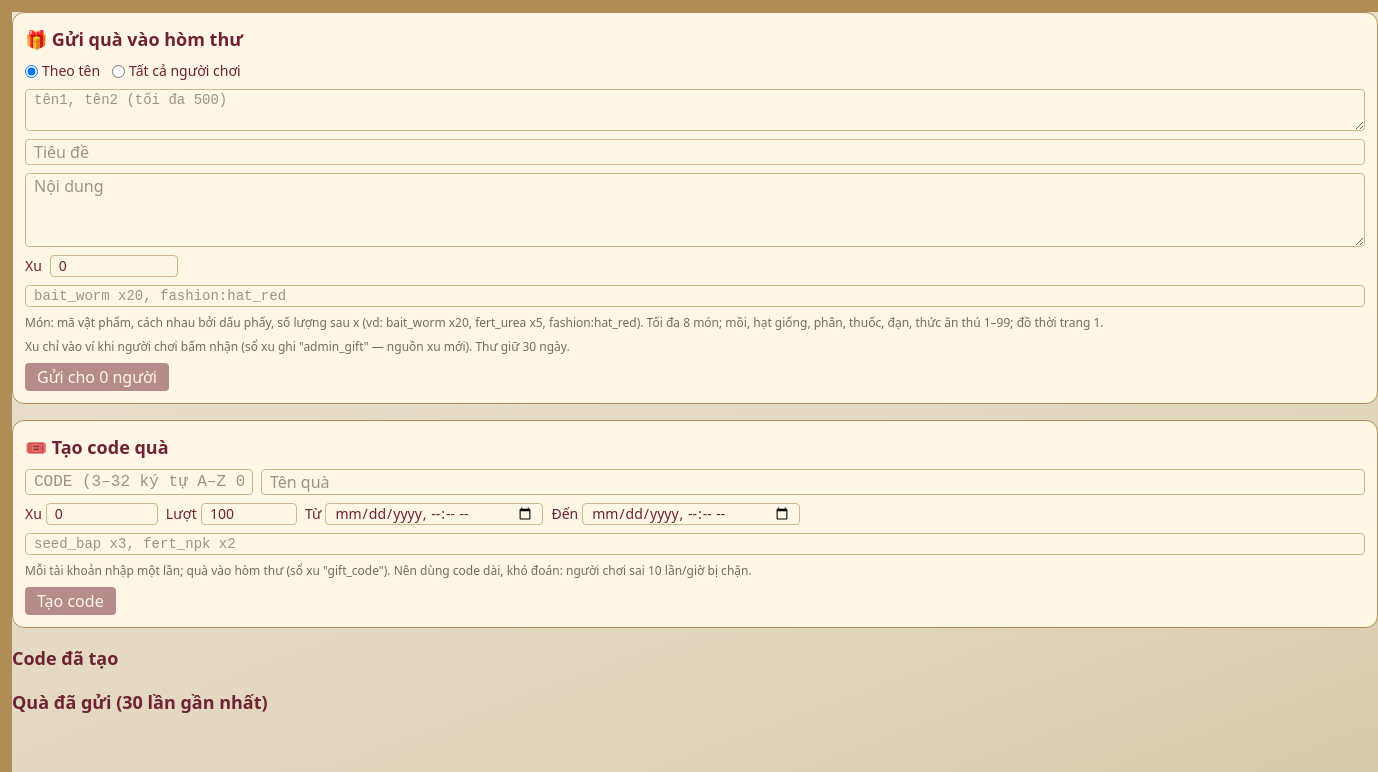
Test: MailTab (admin) › creates and disables a code
The width and height of the screenshot is (1378, 772).
Type "tet2026" into the field labelled "CODE" at coordinates (139, 482), box top-left (25, 469), bottom-right (253, 495)
Type "Tết" into the field named "Tiêu đề code" at coordinates (813, 482), box top-left (261, 469), bottom-right (1365, 495)
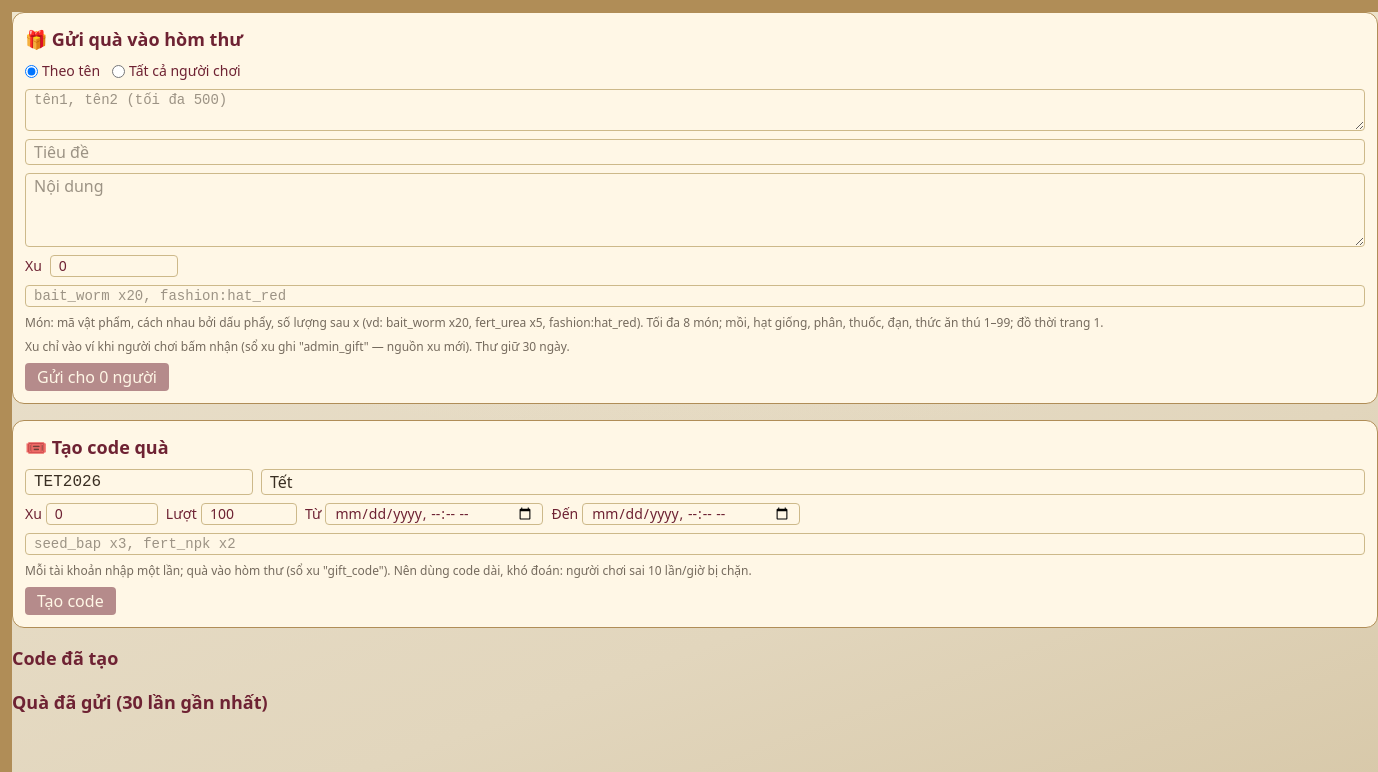
Replace the text in the number field named "Xu code" with "100" at coordinates (102, 514), box top-left (46, 503), bottom-right (158, 525)
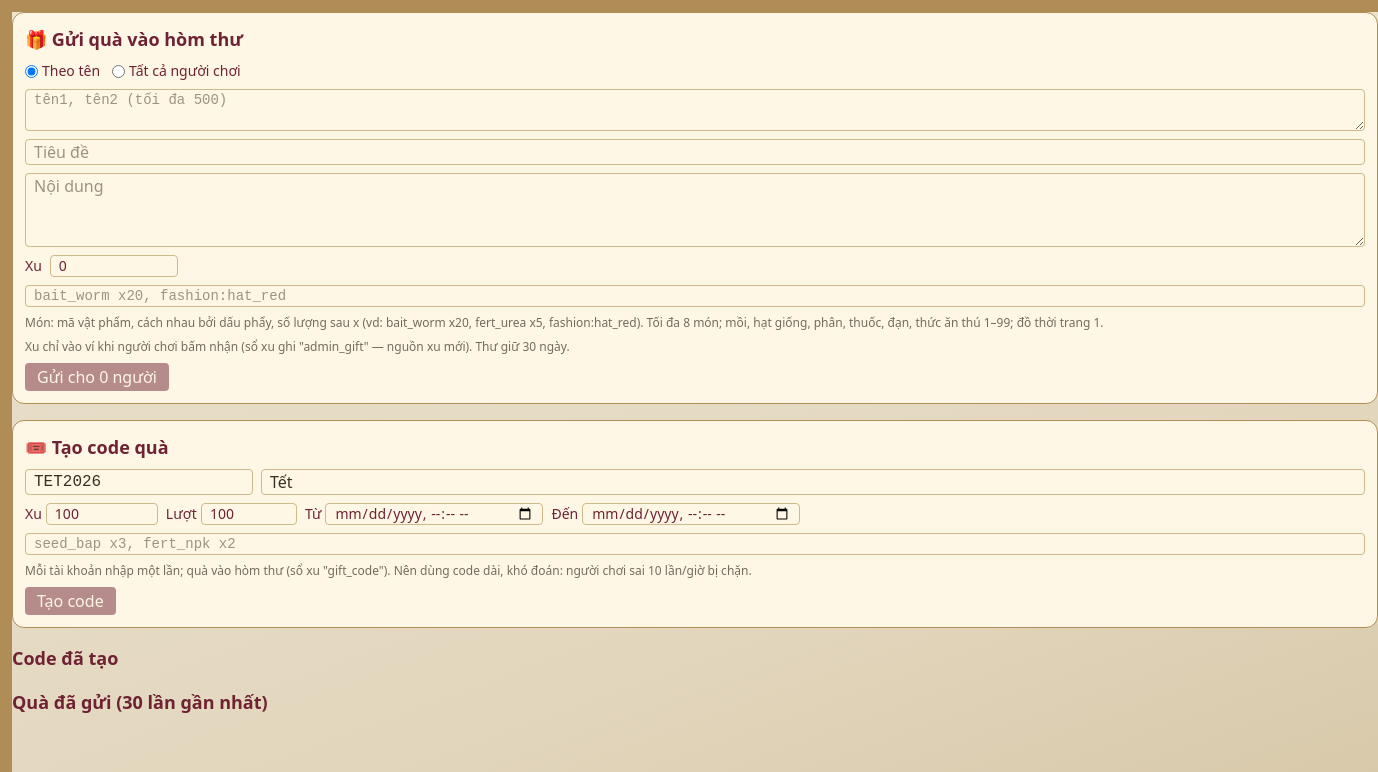
Replace the text in the number field named "Số lượt" with "10" at coordinates (249, 514), box top-left (201, 503), bottom-right (297, 525)
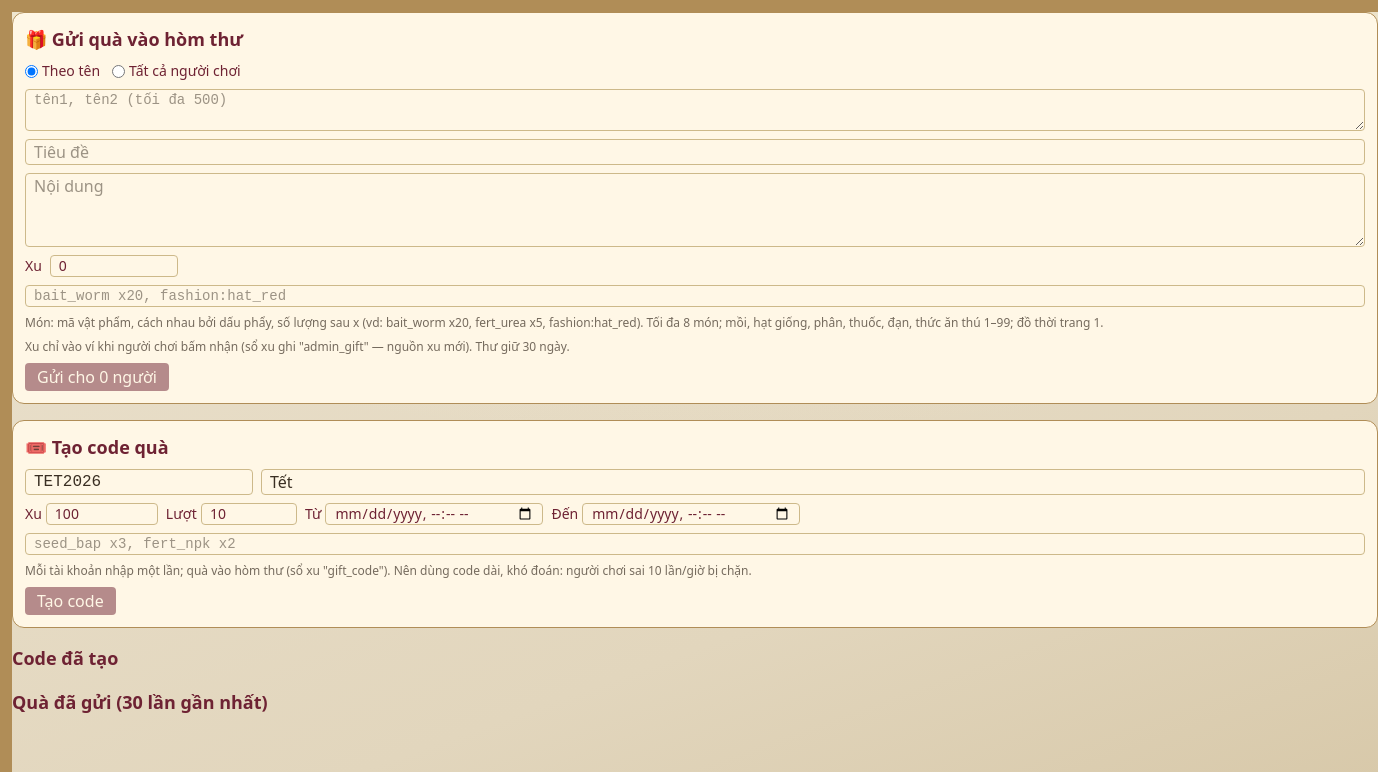
Type "2026-12-31T23:00" into the field named "Hết hạn" at coordinates (691, 514), box top-left (582, 503), bottom-right (800, 525)
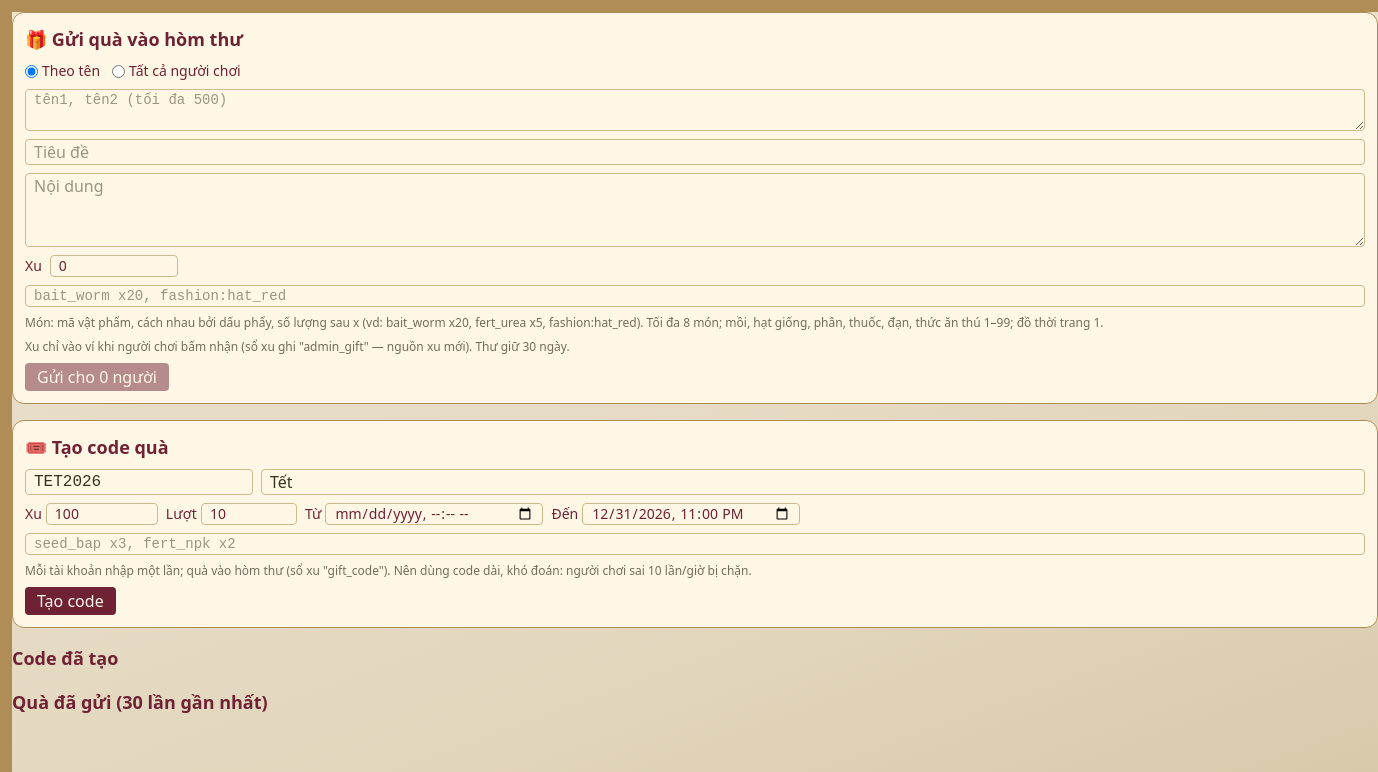
Click the button "Tạo code" at coordinates (70, 601), box top-left (25, 587), bottom-right (116, 615)
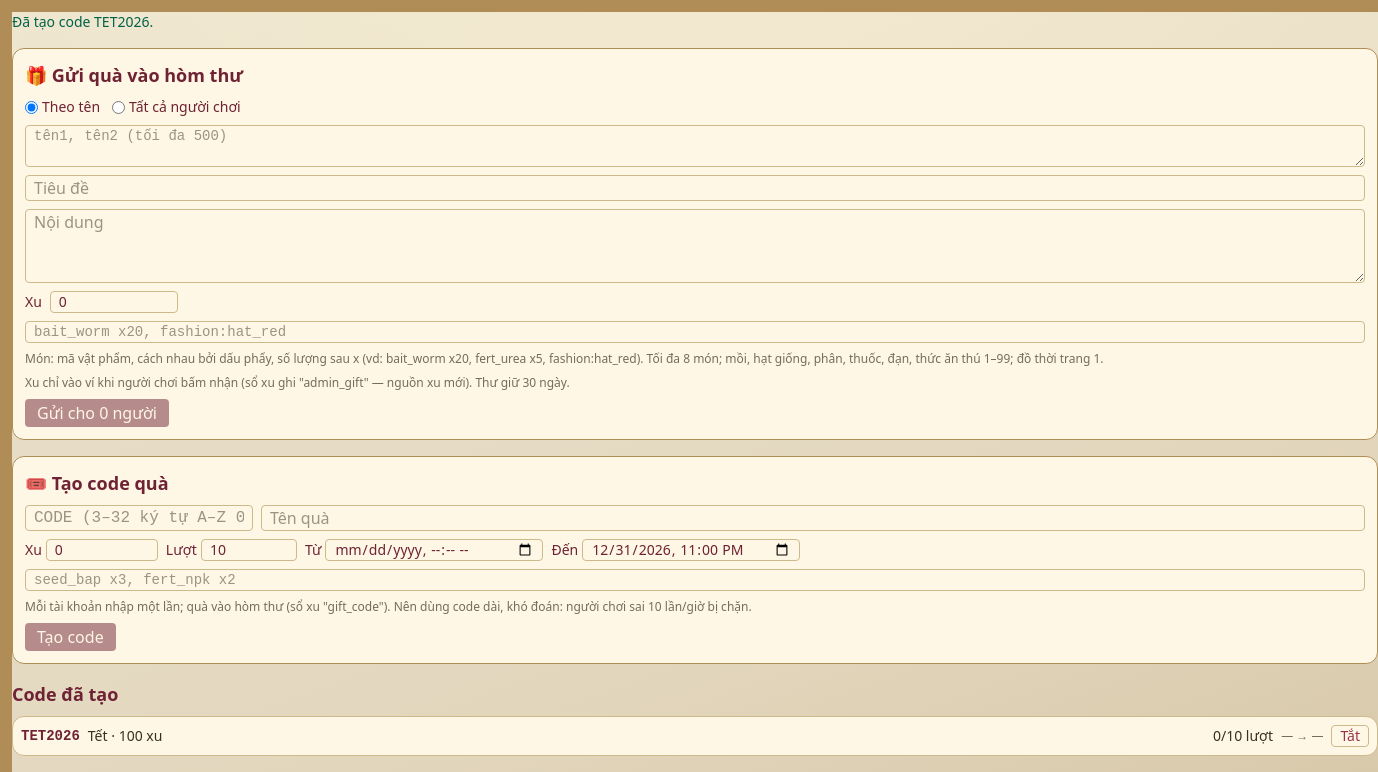
Click the button "Tắt" at coordinates (1350, 736), box top-left (1331, 725), bottom-right (1369, 747)
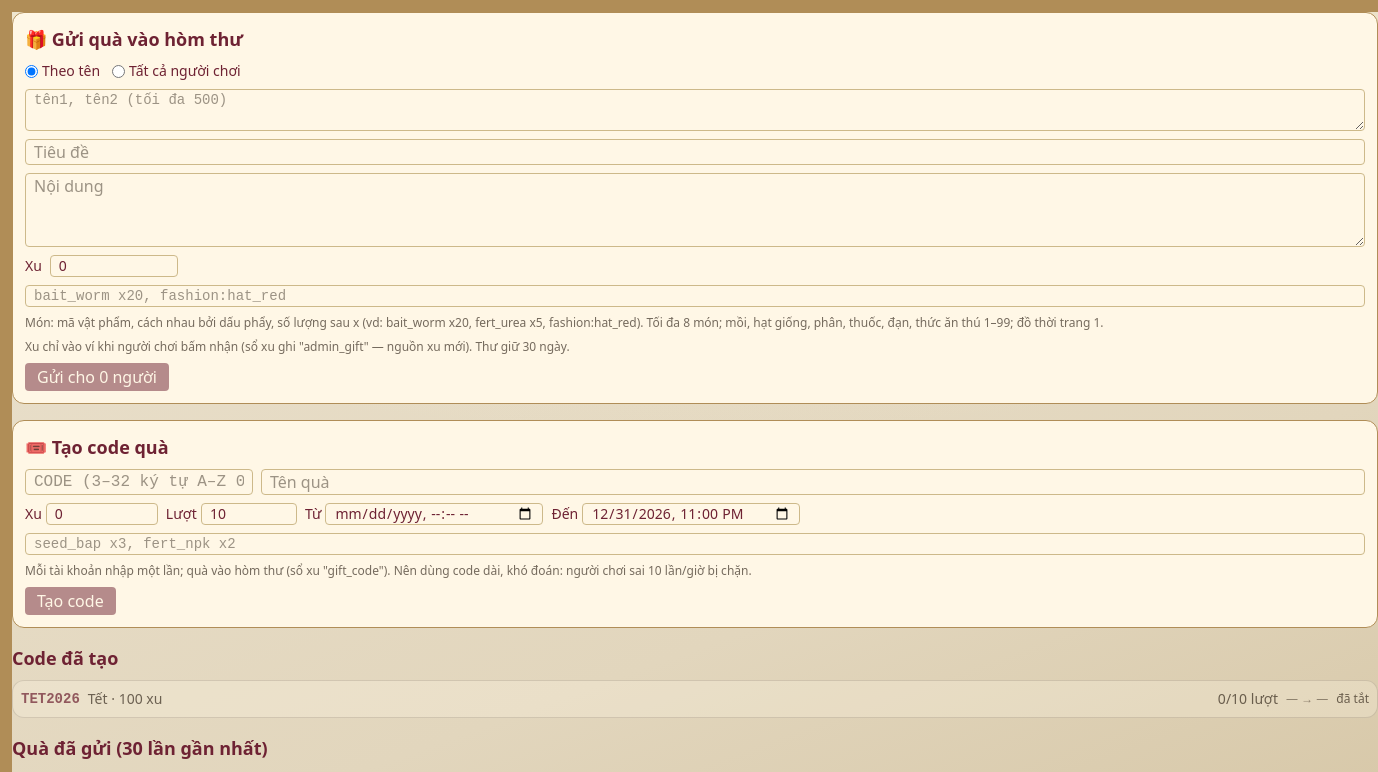
Expected: the text "đã tắt" is shown, top-left (1336, 691), bottom-right (1369, 707)
